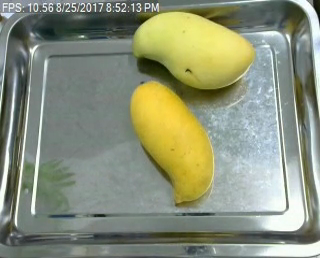Mango: (127, 78, 219, 205), (125, 10, 262, 90)
